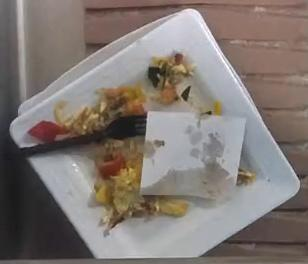omelette: (94, 136, 188, 232), (28, 84, 147, 142), (148, 53, 194, 104)
